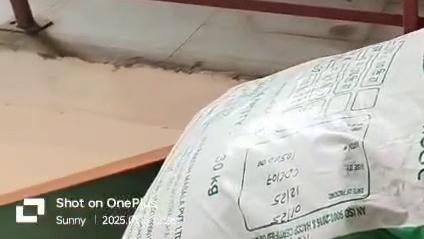box: (118, 24, 424, 238)
